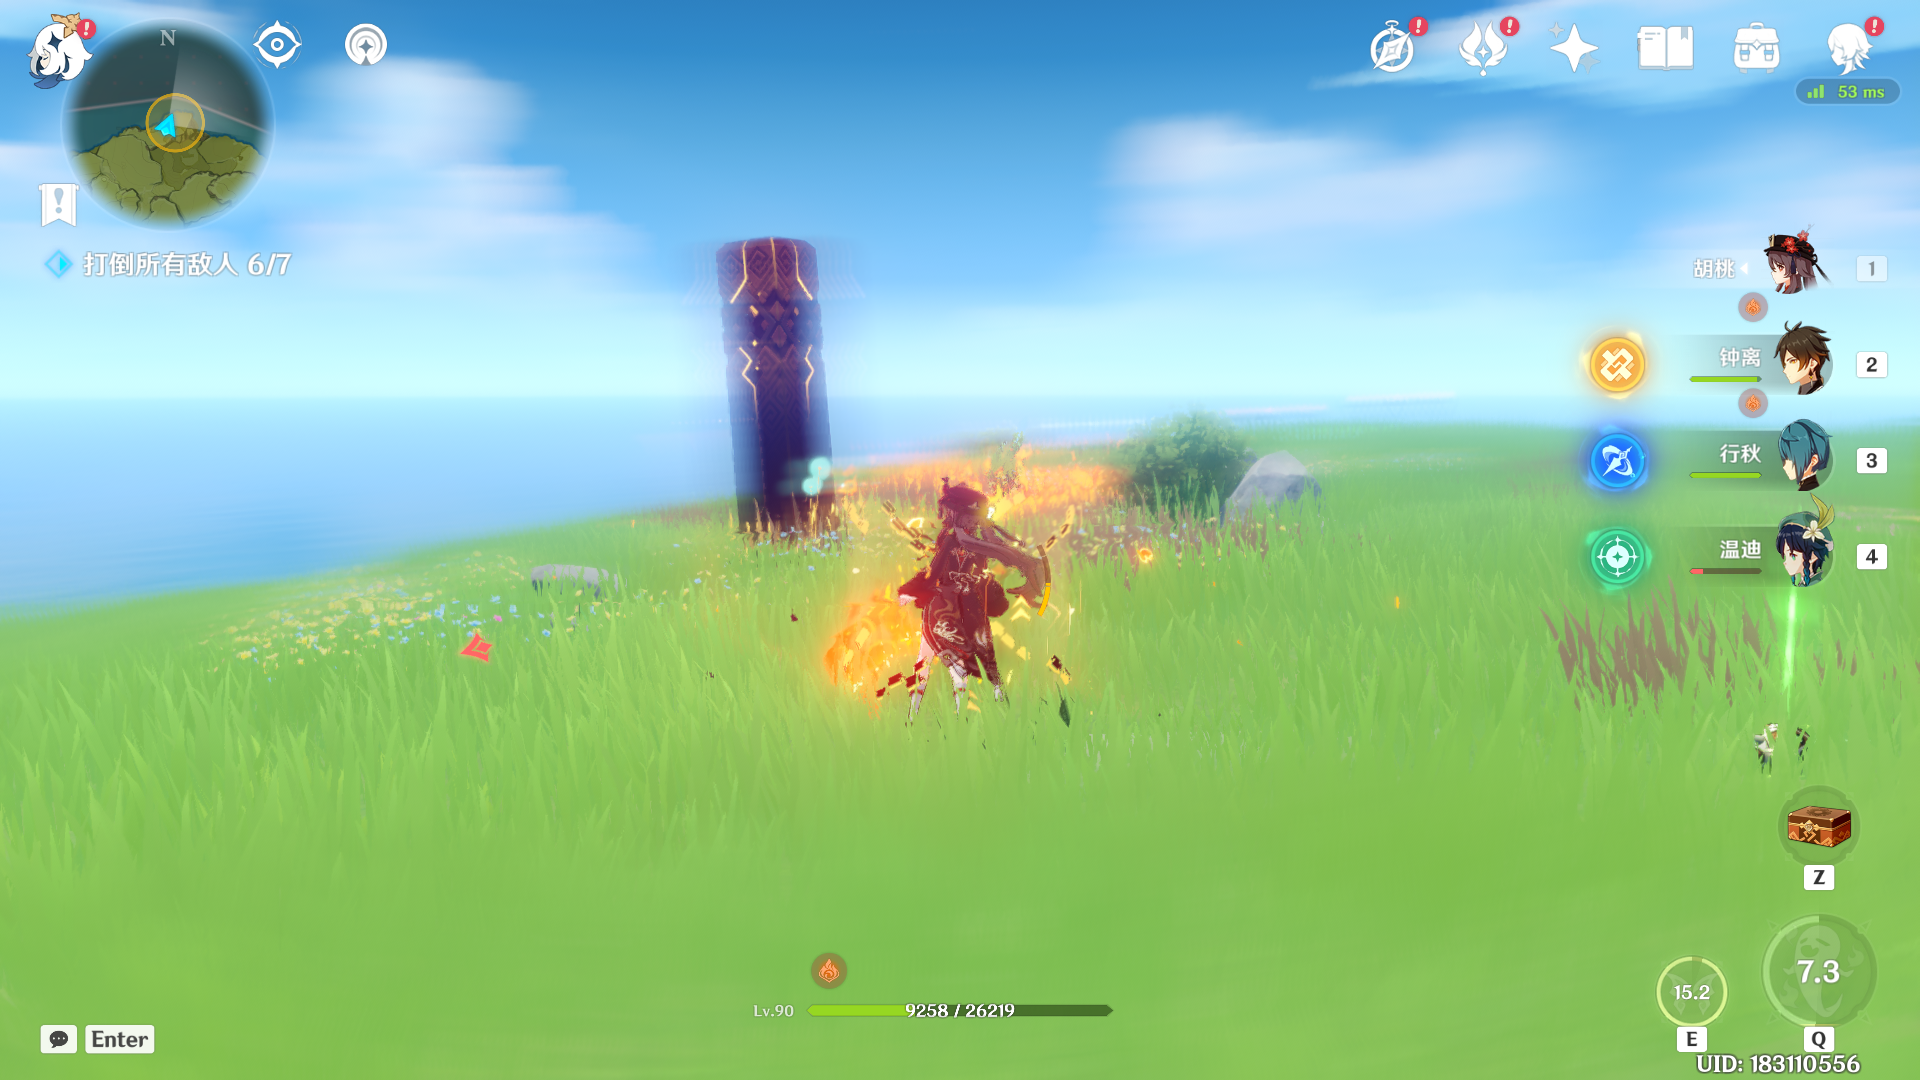character: (858, 465, 1102, 756)
